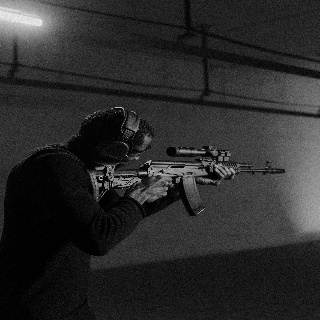rifle: (84, 145, 286, 216)
